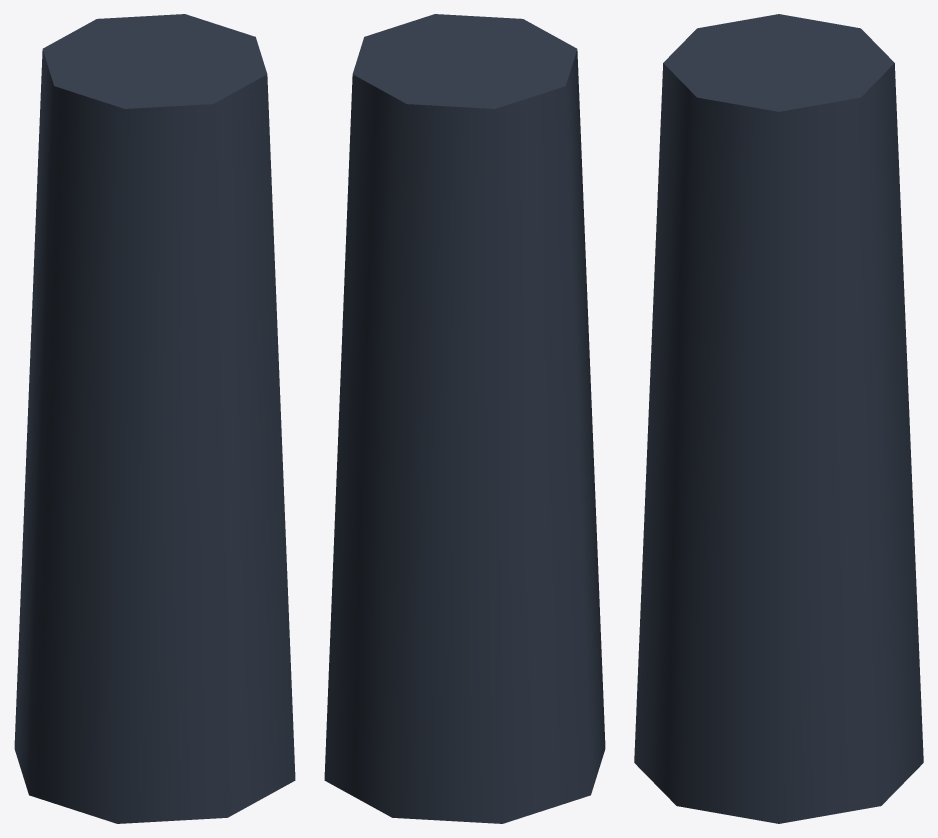
Rendered from metal-bollard-authored-atlas.glb.
3 renders of one model, left to right at view 1: azimuth 30°, elevation 25°; view 2: azimuth 150°, elevation 25°; view 3: azimuth 270°, elevation 25°, orthographic.
Parts seen in each view (by area): view 1: Authored surface.002; view 2: Authored surface.002; view 3: Authored surface.002.
Part boxes in pixels (box(x1,y1,x2,y2)): Authored surface.002: box(14, 14, 295, 823); Authored surface.002: box(324, 14, 605, 823); Authored surface.002: box(634, 14, 923, 823).
Size of the model in its own units: 0.3 by 0.8 by 0.3.
Materials: 1 (1 with a texture image).
